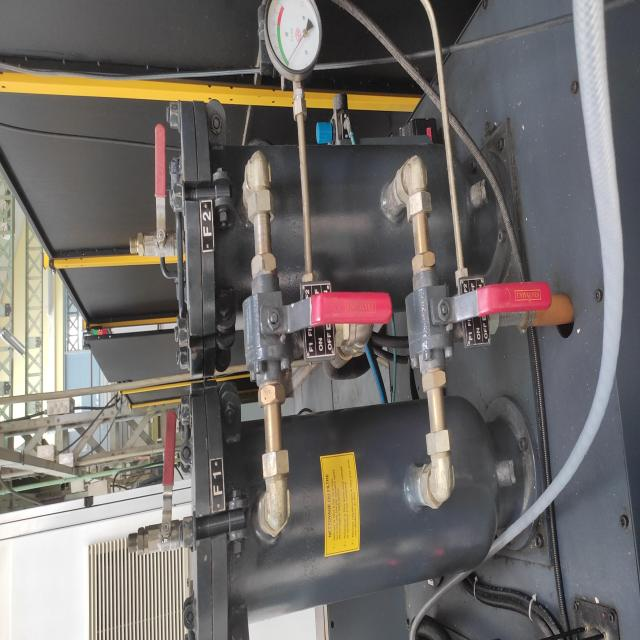closed_valve: (243, 249, 392, 412), (406, 254, 550, 402), (138, 406, 188, 556), (136, 118, 179, 268)
